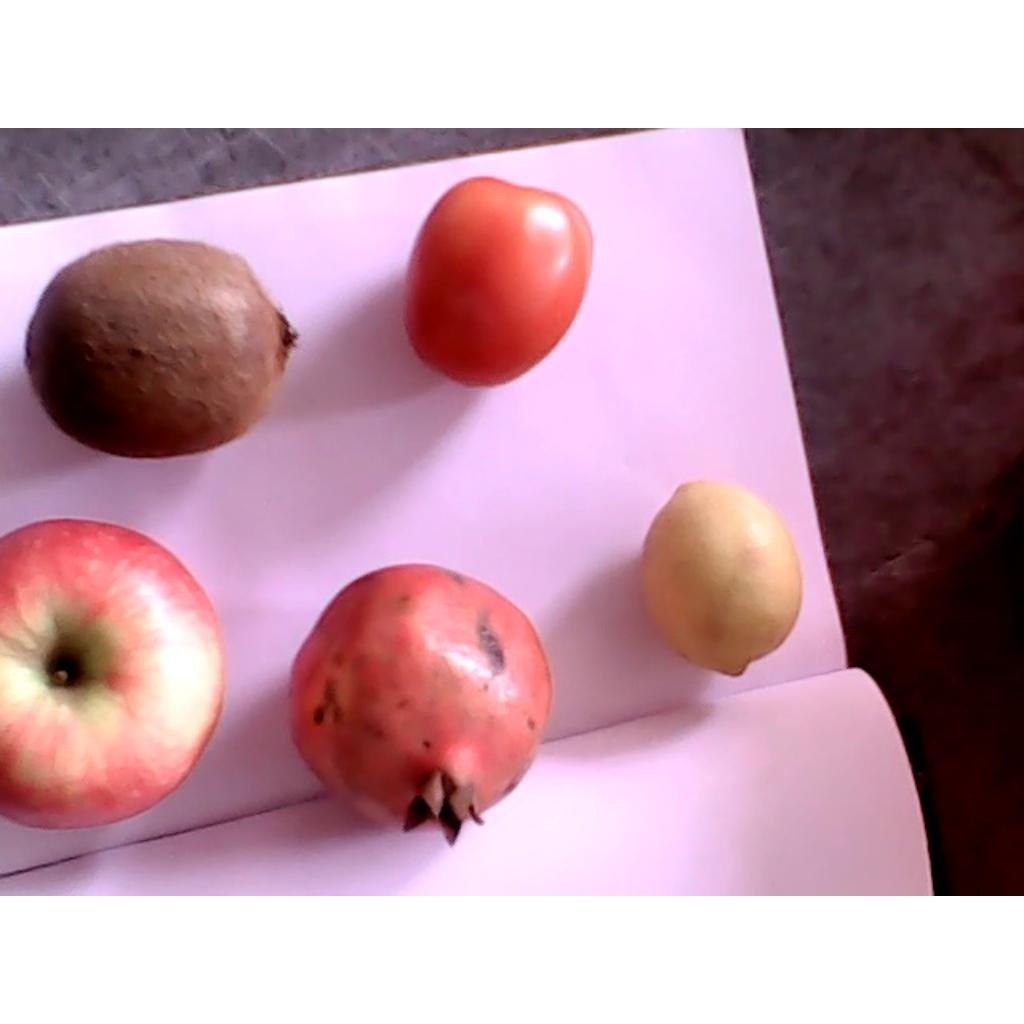apple: (0, 520, 225, 830)
kiwi: (23, 242, 298, 461)
lemon: (638, 480, 801, 674)
pomegranate: (288, 563, 550, 845)
tomato: (405, 176, 595, 385)
